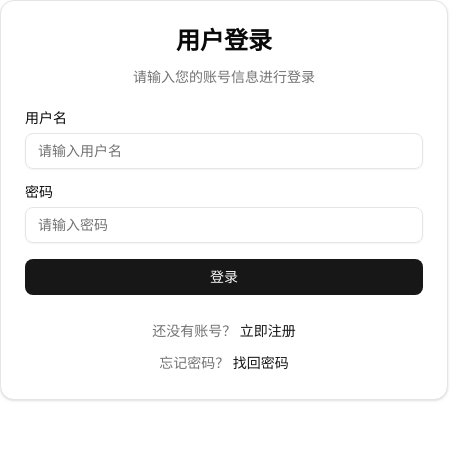
it: LoginForm › validates required fields
Click the button "登录": (224, 277) 25,259 -> 423,295
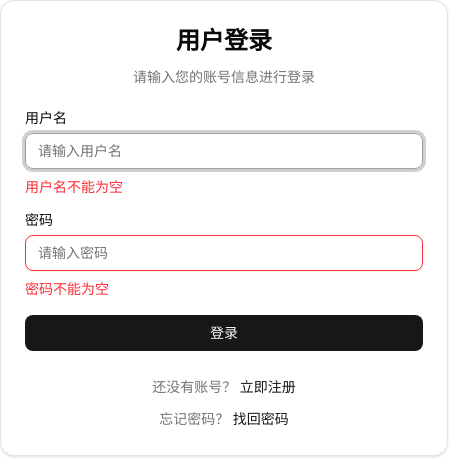
Expected: the text "用户名不能为空" is shown, 25,178 -> 123,196
Expected: the text "密码不能为空" is shown, 25,280 -> 109,298
